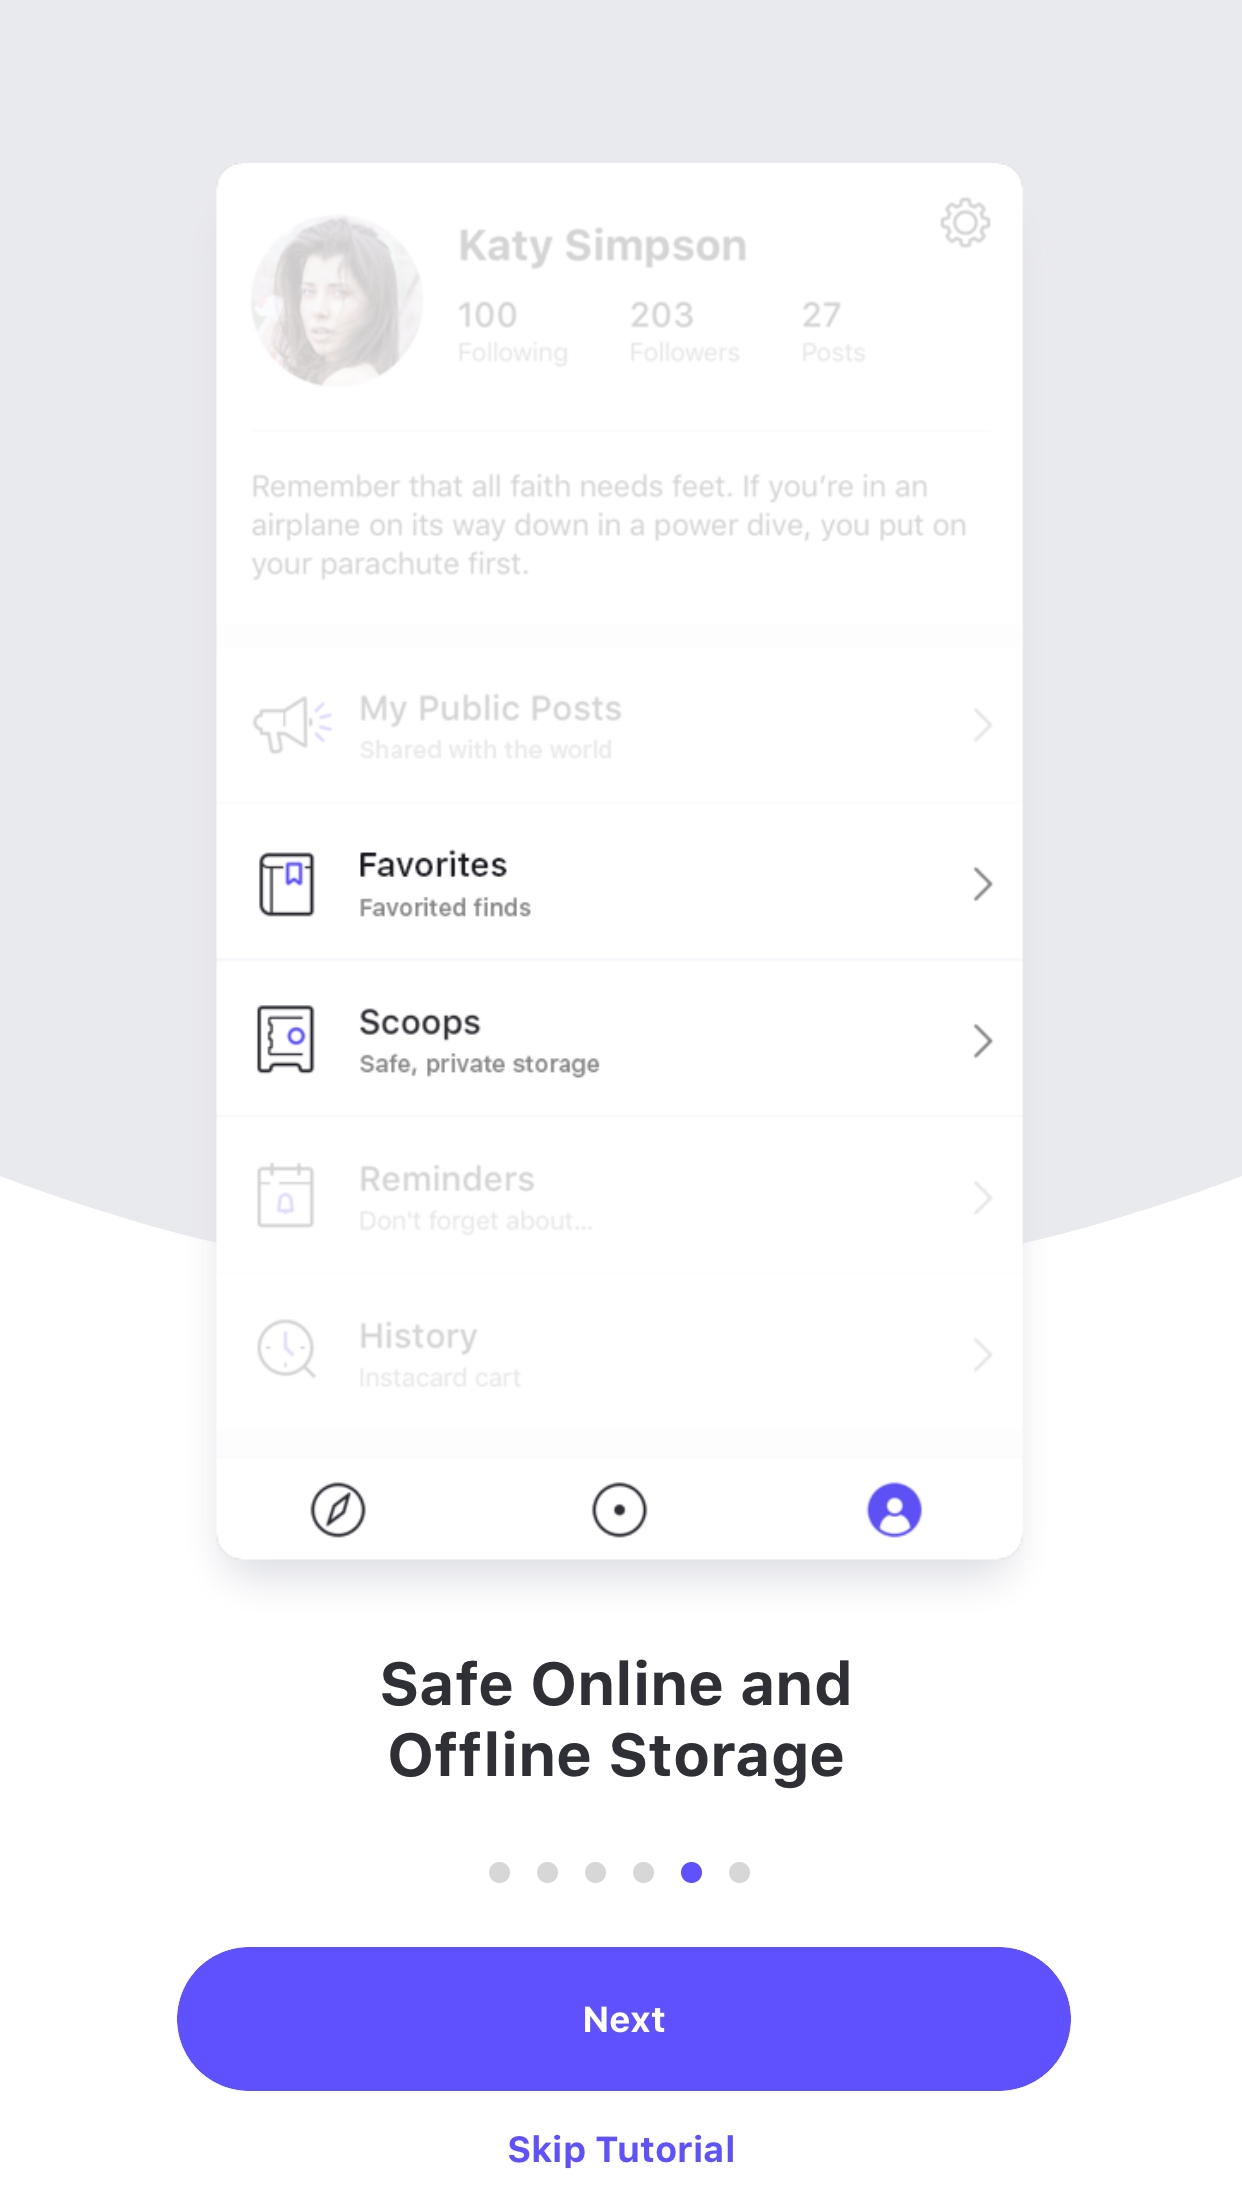Image: (215, 162, 1024, 1560)
PageIndicator: (488, 1861, 751, 1883)
Text: (382, 1658, 851, 1789), (510, 2134, 732, 2169)
TextButton: (177, 1946, 1071, 2091)
